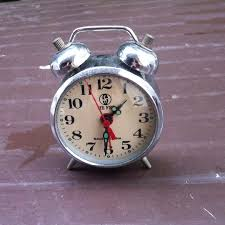alarm_clock: (51, 24, 163, 172)
